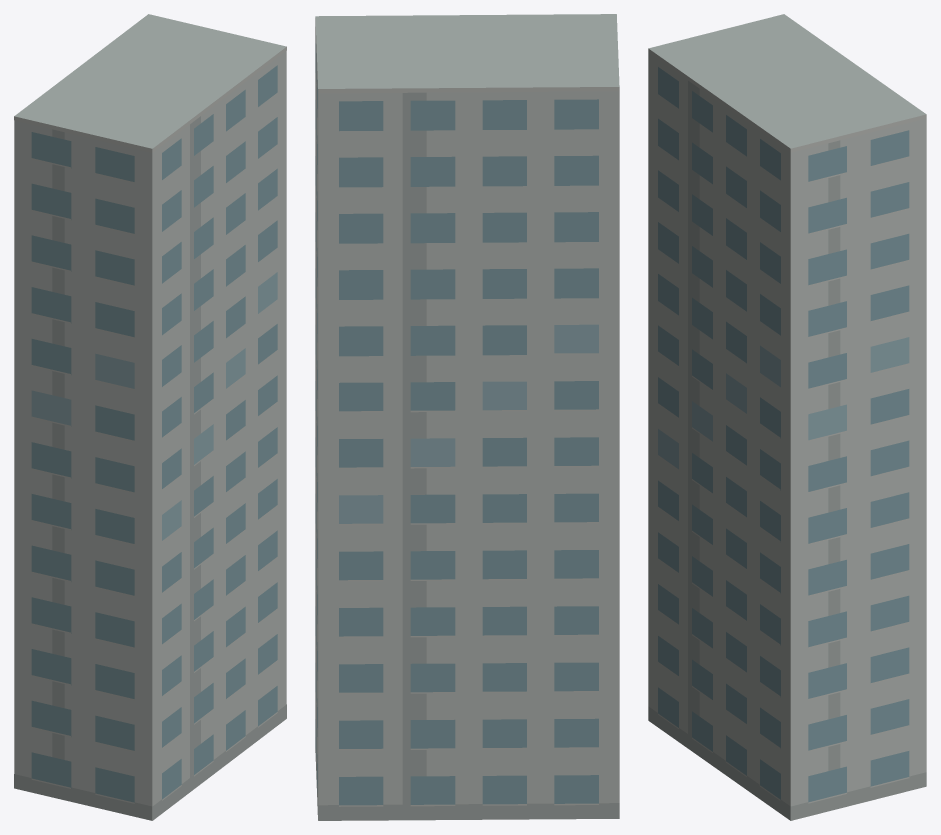
Rendered from residential-da70fc37-d8ff-4e57-a5a9-3ff84cfea07a.glb.
3 views of the same model, side by side, from view 1: azimuth 30°, elevation 25°; view 2: azimuth 150°, elevation 25°; view 3: azimuth 270°, elevation 25° (orthographic). The views are drawn at different scales.
Parts seen in each view (by area): view 1: residential-da70fc37-d8ff-4e57-a5a9-3ff84cfea07a.tmp; view 2: residential-da70fc37-d8ff-4e57-a5a9-3ff84cfea07a.tmp; view 3: residential-da70fc37-d8ff-4e57-a5a9-3ff84cfea07a.tmp.
Boxes of the visible parts, x1,y1,x2,y2 form: residential-da70fc37-d8ff-4e57-a5a9-3ff84cfea07a.tmp: [14, 14, 286, 820]; residential-da70fc37-d8ff-4e57-a5a9-3ff84cfea07a.tmp: [315, 14, 619, 820]; residential-da70fc37-d8ff-4e57-a5a9-3ff84cfea07a.tmp: [648, 14, 926, 820].
Size of the model in its own units: 17.2 by 40 by 15.02.
